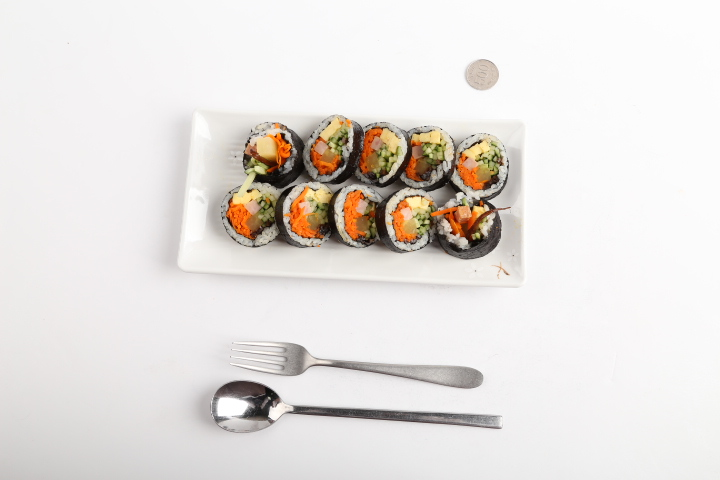dish: (176, 107, 524, 288)
ref_coin: (465, 59, 499, 90)
ref_fork: (229, 341, 317, 376)
ref_spoon: (210, 380, 293, 433)
김밥: (220, 113, 509, 261)
